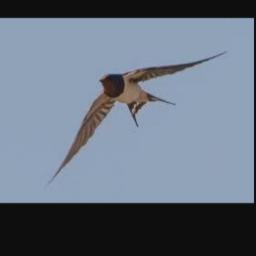Swallow: (45, 51, 228, 188)
